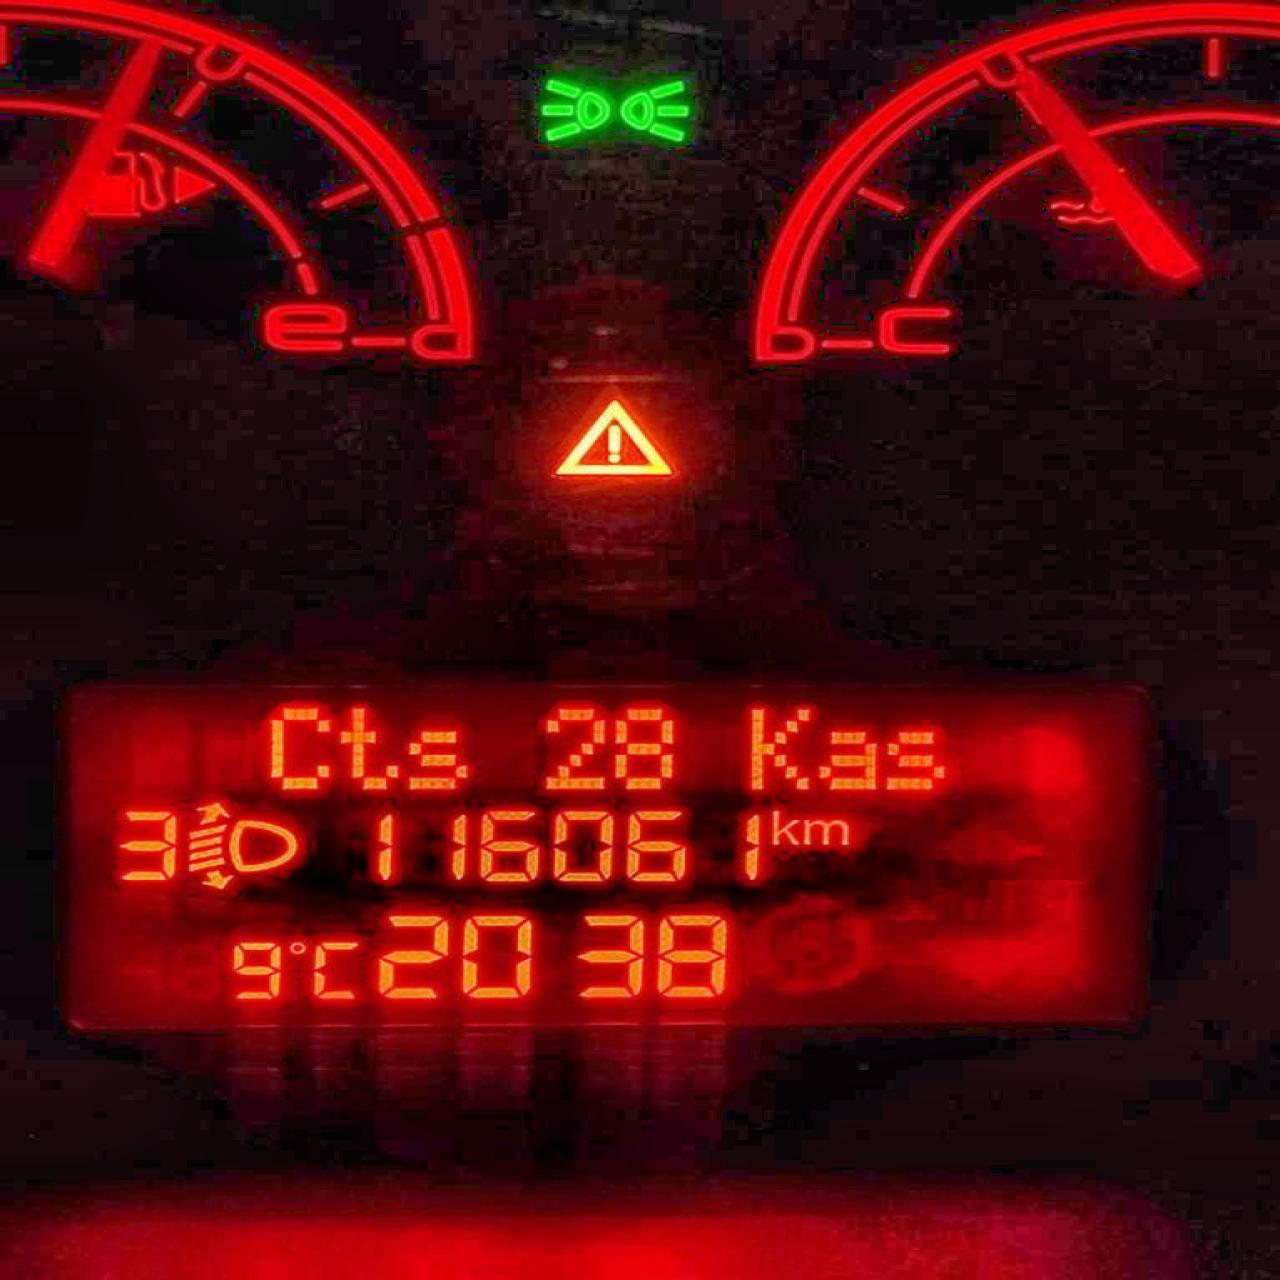0: (458, 913, 533, 999), (550, 810, 615, 884)
1: (370, 810, 394, 880), (447, 811, 470, 880), (738, 811, 762, 879)
2: (373, 912, 449, 999), (542, 704, 605, 791)
3: (572, 914, 647, 1000), (115, 808, 177, 881)
6: (621, 808, 688, 884), (475, 808, 538, 884)
8: (653, 911, 727, 998), (612, 704, 675, 790)
9: (231, 941, 282, 1000)
X: (264, 702, 333, 791), (747, 702, 813, 791), (338, 701, 401, 791), (402, 728, 470, 791), (880, 728, 947, 791), (817, 728, 876, 791), (307, 939, 358, 1001), (799, 817, 849, 846), (767, 808, 801, 847)
odometer: (55, 683, 1153, 1041)
